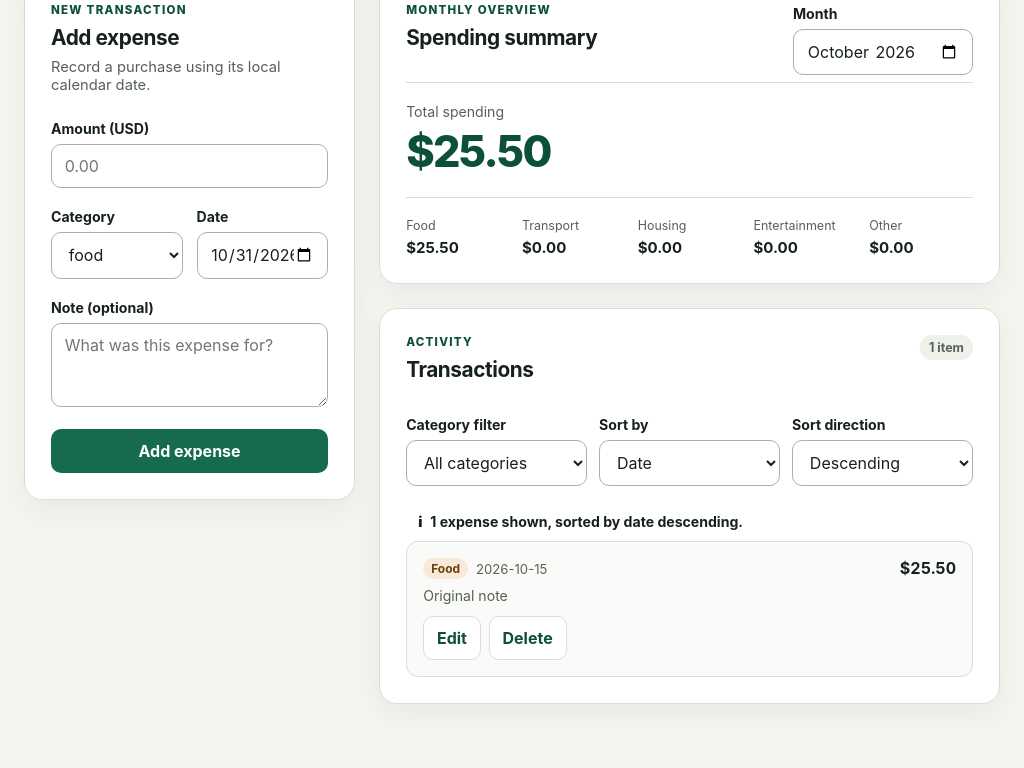
Test: edit amount validation › AMOUNT-002: accepts .50 using the add parser and preserves identity
The width and height of the screenshot is (1024, 768).
(page scrolled)
Click the button with aria-label "Edit expense" at (452, 638), box [423,616,481,660]
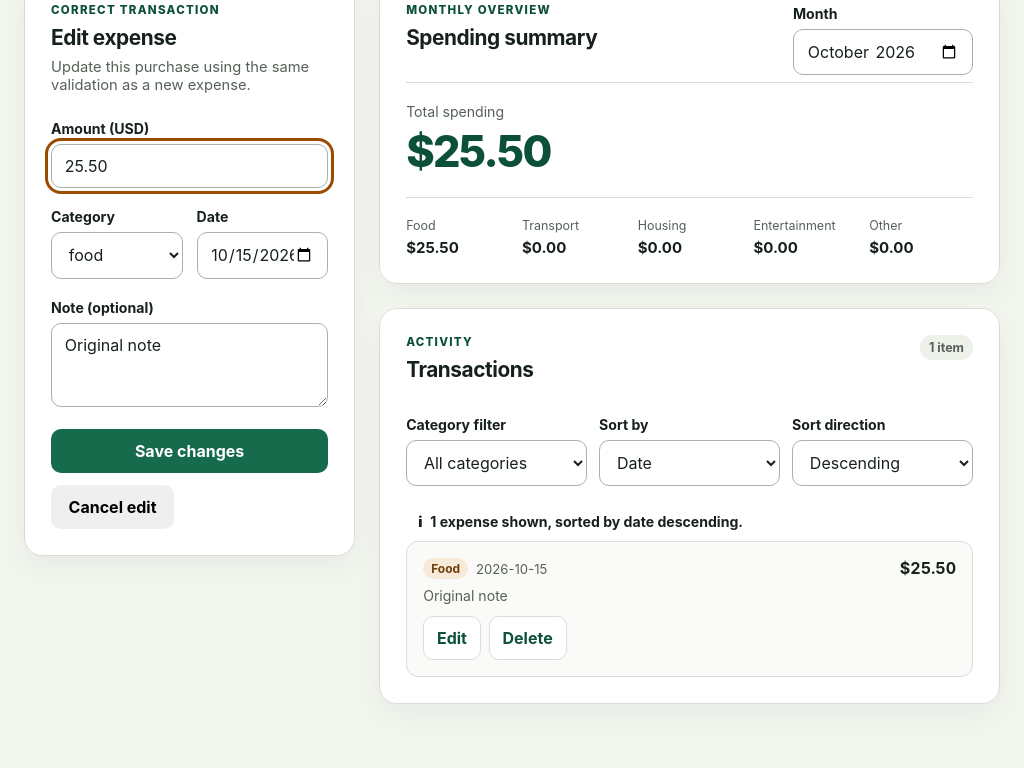
Check: the heading "Edit expense" is shown, box [51,25,176,50]
Check: the field labelled "Amount (USD)" holds "25.50"
Check: the date field labelled "Date" holds "2026-10-15", box [197,232,328,278]
Replace the text in the field labelled "Amount (USD)" with ".50" at (190, 166), box [51,144,328,188]
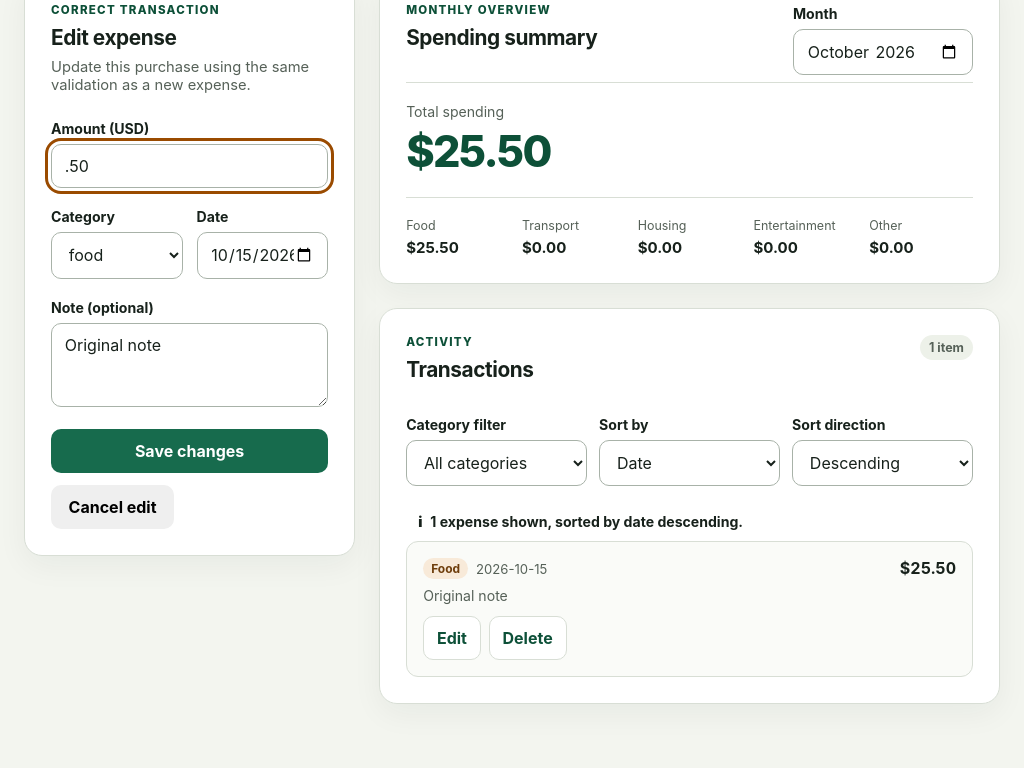
Click the button "Save changes" at (190, 451), box [51,429,328,473]
(page scrolled)
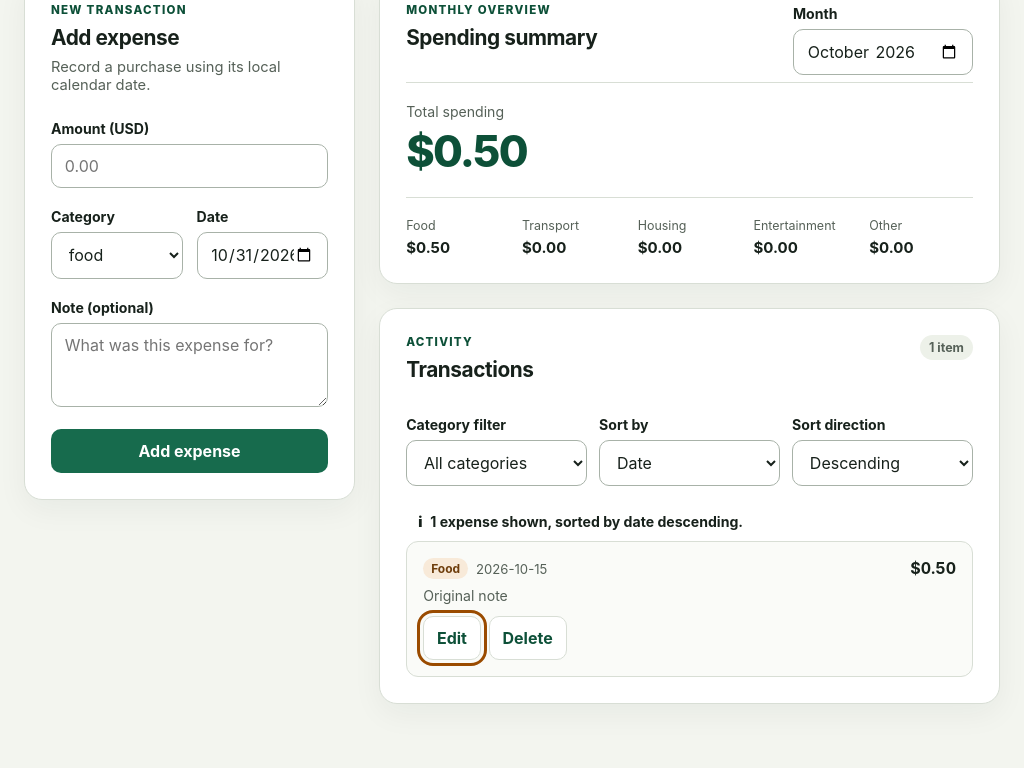
Check: the list item "food 2026-10-15 $0.50 Original note Edit Delete" is shown, box [406,541,973,677]
Check: the text named "Monthly total" reads "$0.50", box [406,125,527,177]
